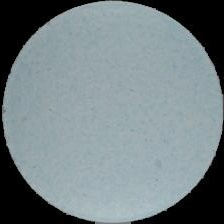51079-952: (0, 0, 224, 224)
